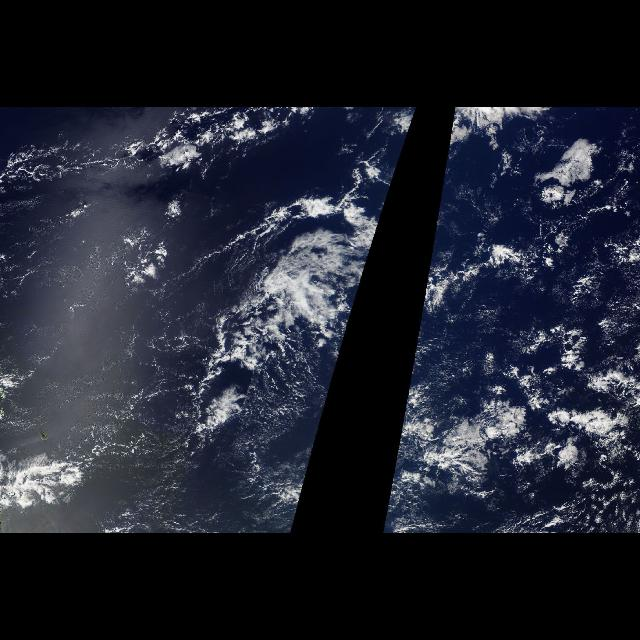Fish: (2, 111, 290, 200)
Flower: (442, 194, 638, 530)
Gravel: (381, 446, 637, 534), (196, 343, 344, 463)
Sugar: (0, 237, 132, 418)
